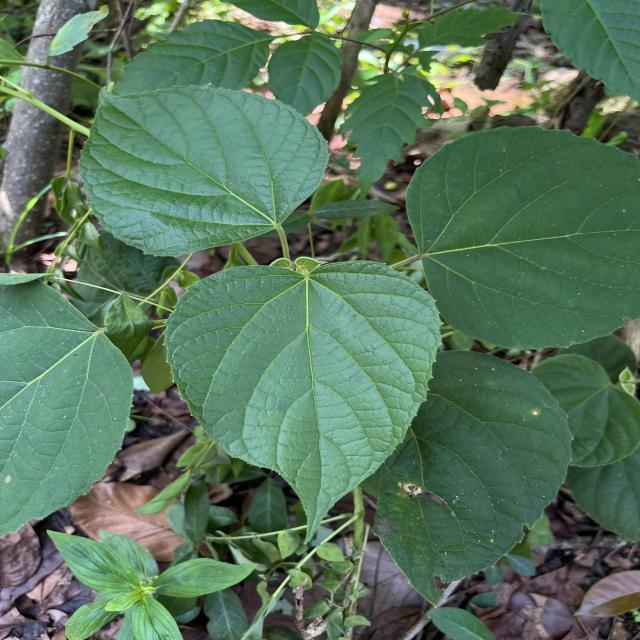Clerodendrum infortunatum: (160, 258, 448, 546), (76, 82, 332, 259)
